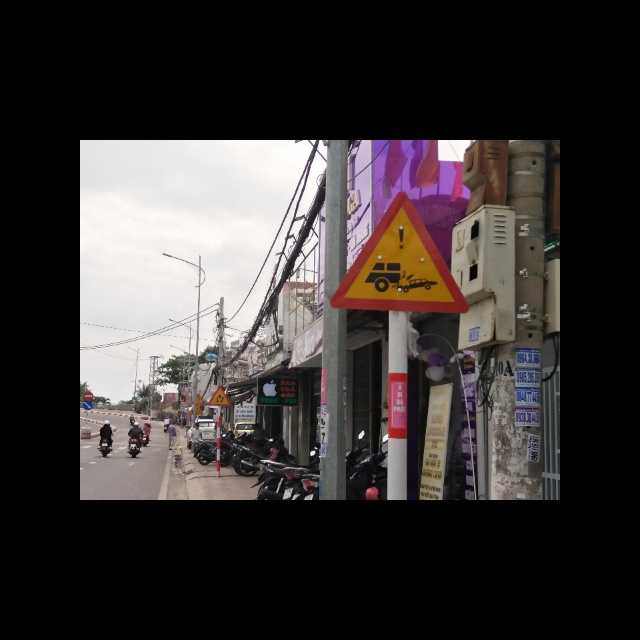Đoạn đường hay xảy ra tai nạn: (326, 193, 470, 315)
Đường đôi: (208, 384, 233, 406)
